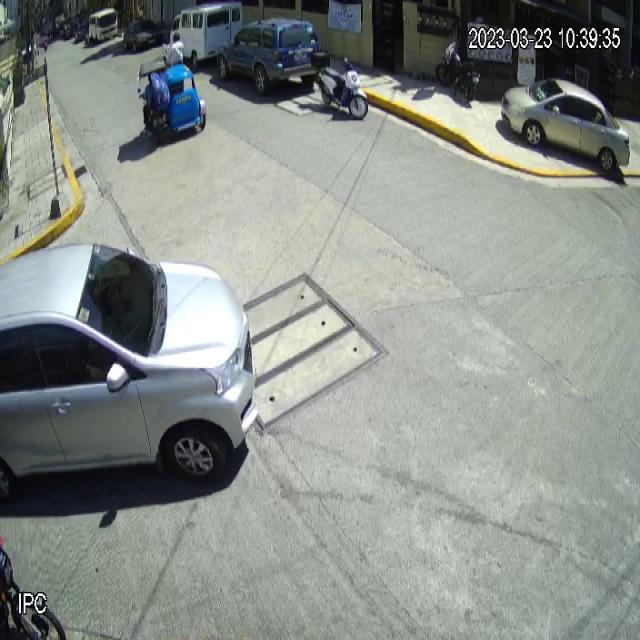Car: (0, 231, 257, 498), (500, 76, 632, 175), (216, 17, 322, 98)
Motorcycle: (311, 49, 371, 125)
Tricycle: (136, 56, 206, 146)
Van: (169, 2, 244, 68)
